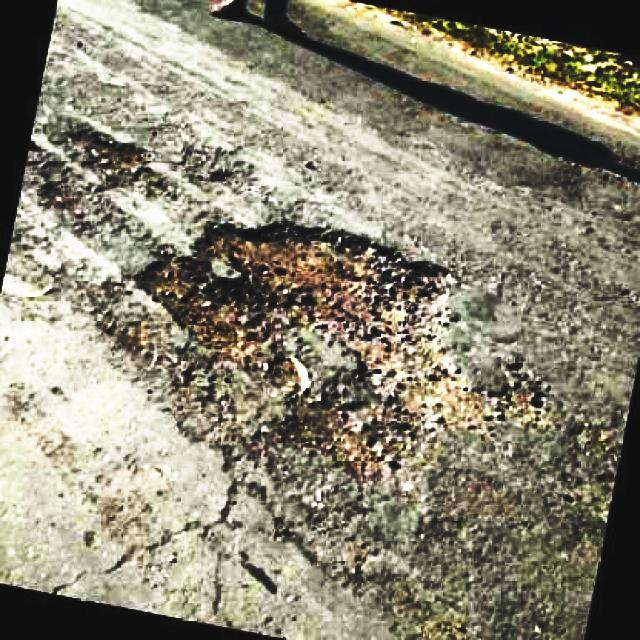pothole: (148, 210, 523, 442), (34, 119, 171, 226)
